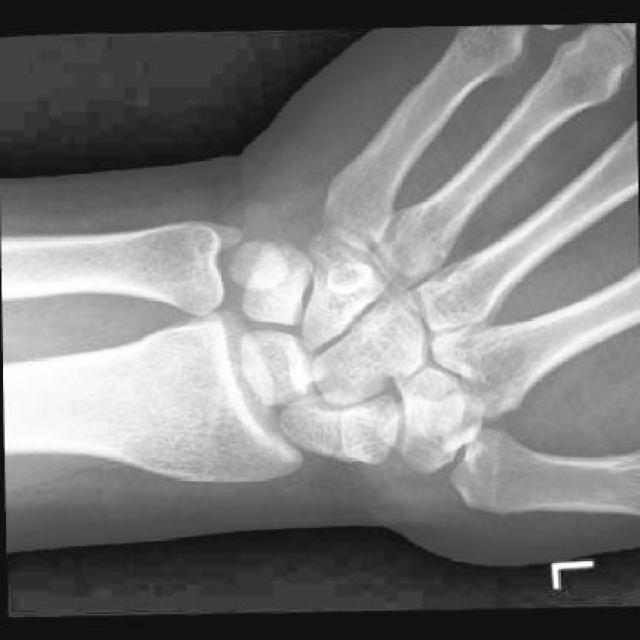Fracture: (319, 391, 373, 465)
